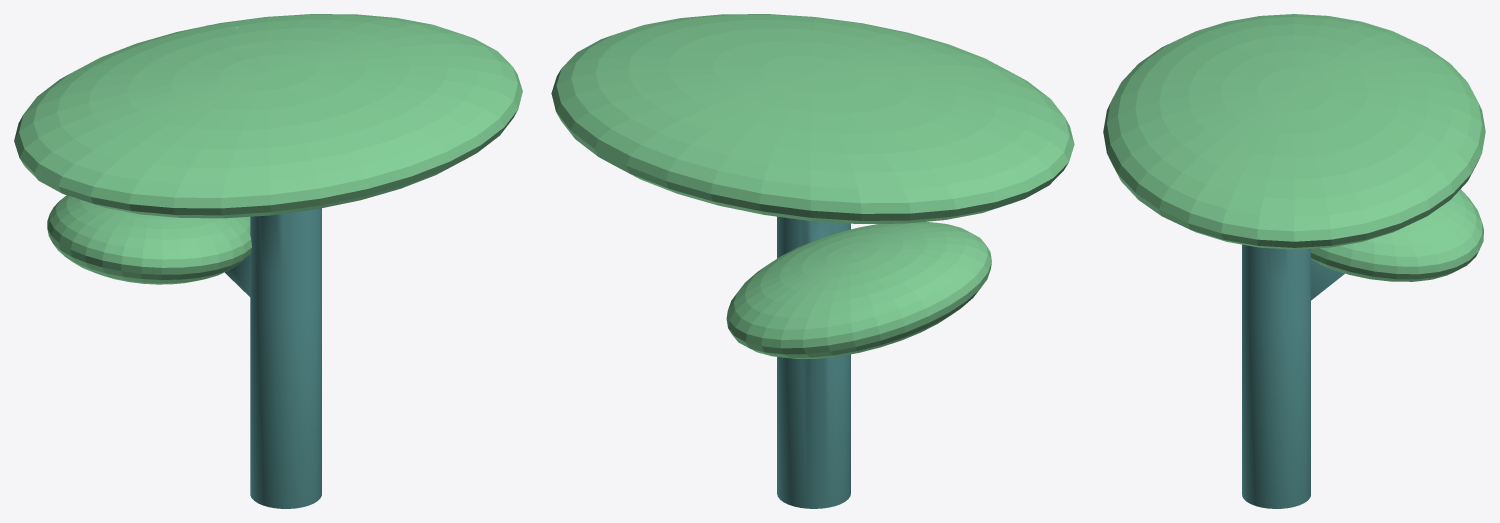
Rendered from Tree2.fbx.
3 views of the same model, side by side, from view 1: azimuth 30°, elevation 25°; view 2: azimuth 150°, elevation 25°; view 3: azimuth 270°, elevation 25° (orthographic). The views are drawn at different scales.
Parts seen in each view (by area): view 1: Leaves.001, Tree.001, Leaves.002; view 2: Leaves.001, Leaves.002, Tree.001; view 3: Leaves.001, Tree.001, Leaves.002.
Part boxes in pixels (x1,y1,x2,y2): Leaves.001: (14,14,522,218); Tree.001: (225,208,321,508); Leaves.002: (47,195,251,284); Leaves.001: (551,14,1074,223); Leaves.002: (726,221,991,358); Tree.001: (777,216,850,508); Leaves.001: (1103,14,1485,249); Tree.001: (1242,244,1344,508); Leaves.002: (1311,189,1483,281).
Bounding box in the file's own units: 7512 × 6393 × 5525.
